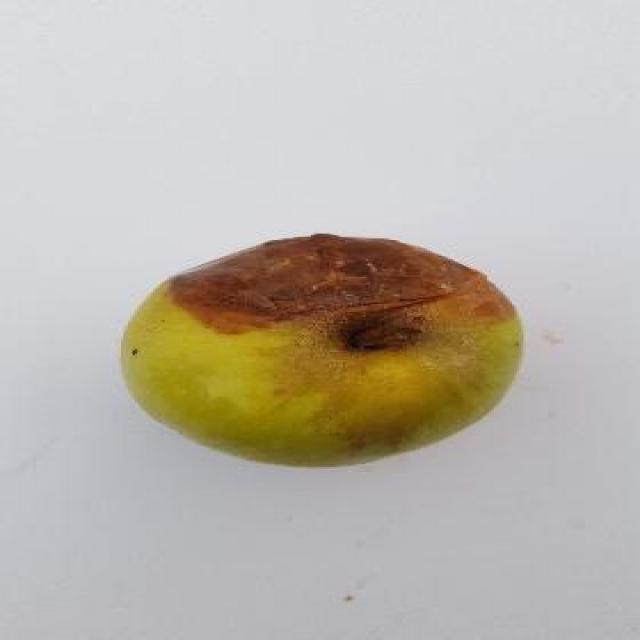Rotten: (122, 237, 513, 471)
